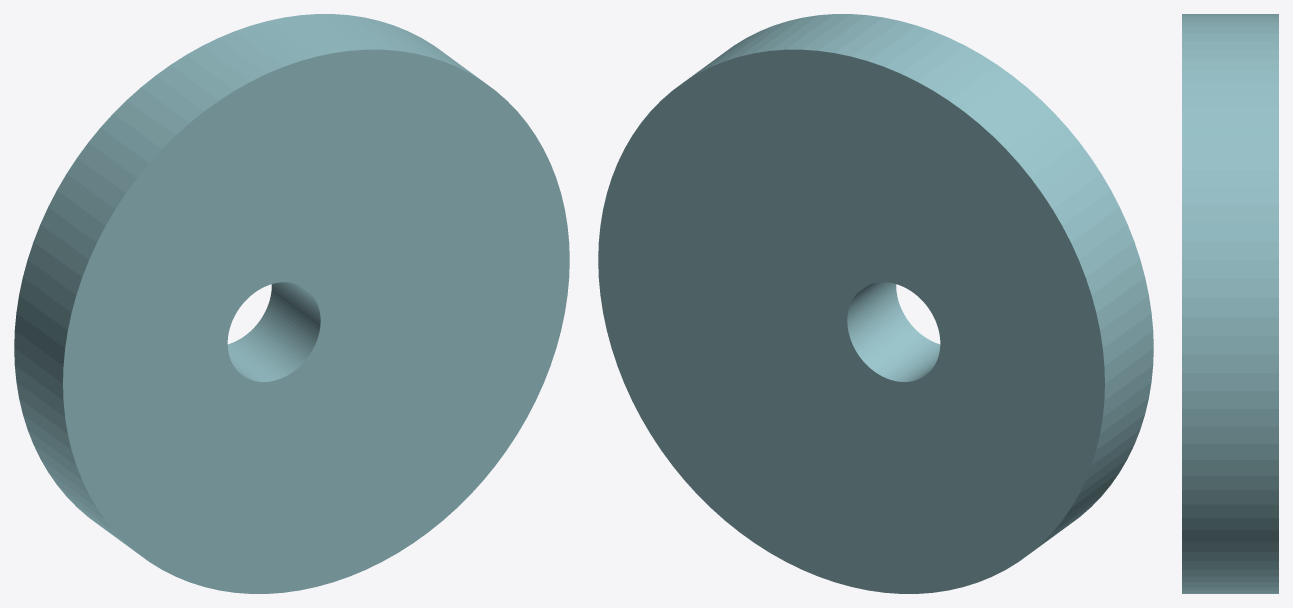
File: assembly.glb
3 views of the same model, side by side, from view 1: azimuth 30°, elevation 25°; view 2: azimuth 150°, elevation 25°; view 3: azimuth 270°, elevation 25° (orthographic).
Visible parts, largest first — view 1: eccentric_cam; view 2: eccentric_cam; view 3: eccentric_cam.
Boxes of the visible parts, bbox=[...] form: eccentric_cam: bbox=[14, 14, 569, 593]; eccentric_cam: bbox=[598, 14, 1153, 593]; eccentric_cam: bbox=[1182, 14, 1278, 593].
Bounding box in the file's own units: 0.024 × 0.024 × 0.004.
